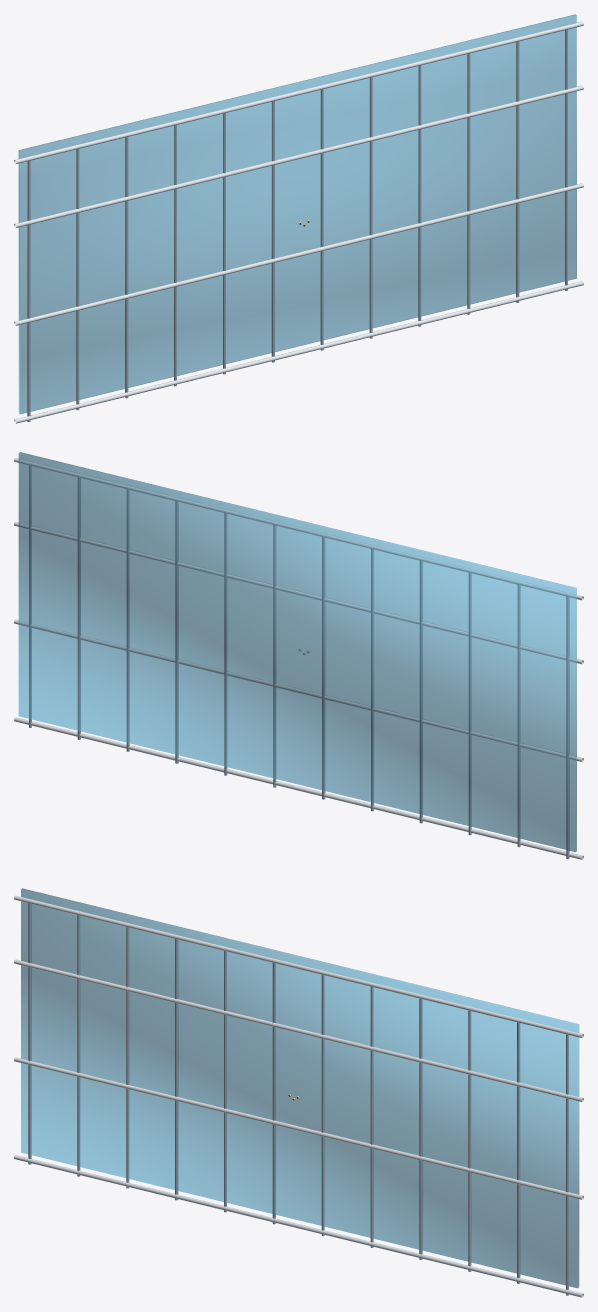
The model's file is 01_L91_PanoramicDeepSpaceObservationDome.fbx.
The picture shows the model from 3 angles, top to bottom: view 1: azimuth 30°, elevation 25°; view 2: azimuth 150°, elevation 25°; view 3: azimuth 330°, elevation 25°; orthographic projection.
Visible parts, largest first — view 1: L91_PanoramicDeepSpaceObserva_Part_0000, L91_PanoramicDeepSpaceObserva_Part_0002, L91_PanoramicDeepSpaceObserva_Part_0001; view 2: L91_PanoramicDeepSpaceObserva_Part_0000, L91_PanoramicDeepSpaceObserva_Part_0001, L91_PanoramicDeepSpaceObserva_Part_0002; view 3: L91_PanoramicDeepSpaceObserva_Part_0000, L91_PanoramicDeepSpaceObserva_Part_0002, L91_PanoramicDeepSpaceObserva_Part_0001.
Part boxes in pixels (box(x1,y1,x2,y2)): L91_PanoramicDeepSpaceObserva_Part_0000: box(18, 14, 576, 414); L91_PanoramicDeepSpaceObserva_Part_0002: box(14, 21, 583, 423); L91_PanoramicDeepSpaceObserva_Part_0001: box(27, 29, 567, 421); L91_PanoramicDeepSpaceObserva_Part_0000: box(18, 452, 576, 851); L91_PanoramicDeepSpaceObserva_Part_0001: box(29, 464, 569, 858); L91_PanoramicDeepSpaceObserva_Part_0002: box(14, 458, 583, 859); L91_PanoramicDeepSpaceObserva_Part_0000: box(21, 888, 579, 1288); L91_PanoramicDeepSpaceObserva_Part_0002: box(14, 895, 583, 1297); L91_PanoramicDeepSpaceObserva_Part_0001: box(28, 903, 568, 1295).
Size of the model in its own units: 31.6 by 14.5 by 0.712.
